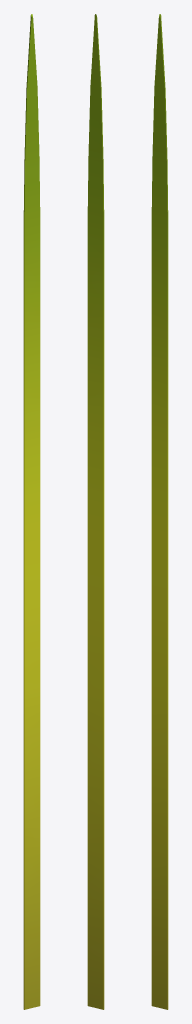
Rendered from Seagrass.fbx.
3 views of the same model, side by side, from view 1: azimuth 30°, elevation 25°; view 2: azimuth 150°, elevation 25°; view 3: azimuth 330°, elevation 25° (orthographic).
Visible parts, largest first — view 1: Seagrass; view 2: Seagrass; view 3: Seagrass.
Boxes of the visible parts, x1,y1,x2,y2 form: Seagrass: [23, 14, 40, 1009]; Seagrass: [87, 14, 104, 1009]; Seagrass: [151, 14, 168, 1009].
Bounding box in the file's own units: 1.96 × 115 × 0.1426.
1 material, 1 textured.
